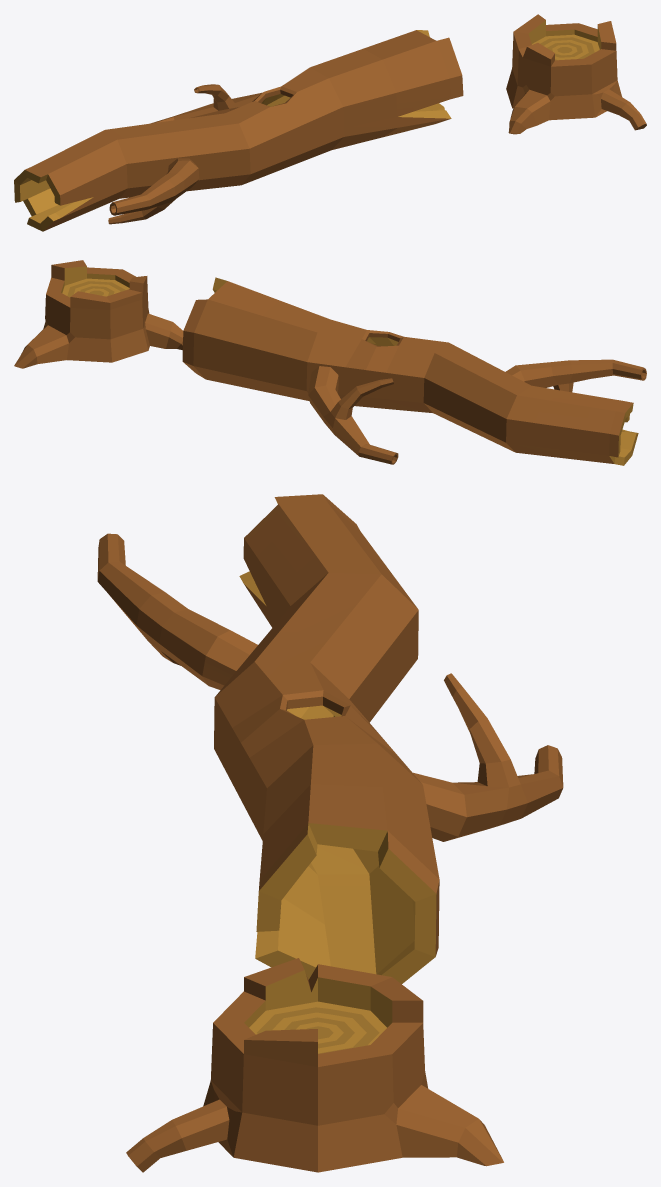
File: fallen_tree.fbx
3 views of the same model, one above another, from view 1: azimuth 30°, elevation 25°; view 2: azimuth 150°, elevation 25°; view 3: azimuth 270°, elevation 25° (orthographic). The views are drawn at different scales.
Visible parts, largest first — view 1: Circle, Circle.001; view 2: Circle, Circle.001; view 3: Circle, Circle.001.
Boxes of the visible parts, x1,y1,x2,y2 form: Circle: (14,30,463,231); Circle.001: (506,14,646,134); Circle: (182,277,646,465); Circle.001: (14,260,183,368); Circle: (97,494,563,983); Circle.001: (126,958,503,1172).
Bounding box in the file's own units: 84.26 × 13.25 × 29.12.
